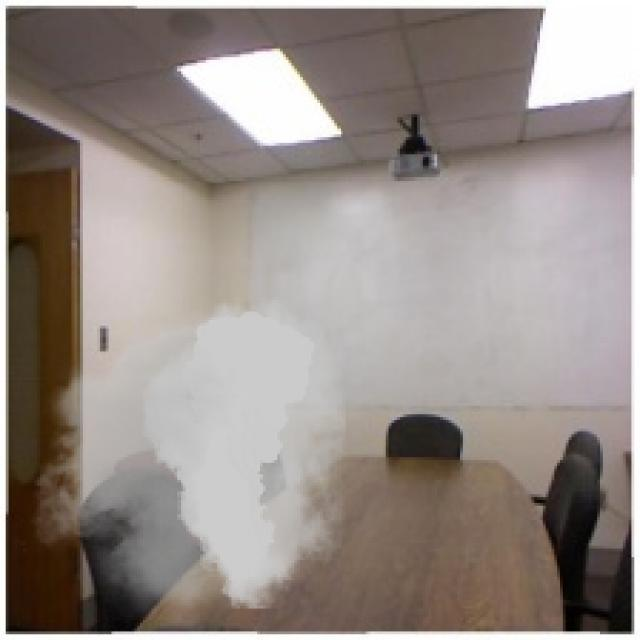smoke: (14, 288, 374, 632)
